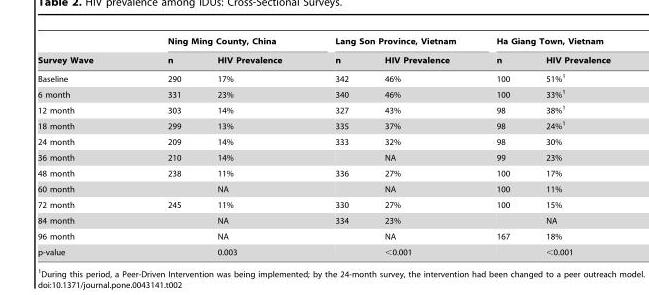table: (37, 36, 610, 256)
table column: (198, 36, 307, 256), (366, 36, 475, 256), (37, 36, 129, 256), (527, 36, 610, 256), (129, 36, 198, 256), (307, 36, 366, 256), (475, 36, 527, 256)
table column header: (37, 36, 610, 68)
table row: (37, 50, 610, 68), (37, 68, 610, 85), (37, 85, 610, 101), (37, 101, 610, 117), (37, 117, 610, 133), (37, 133, 610, 149), (37, 149, 610, 165), (37, 165, 610, 181), (37, 196, 610, 212), (37, 212, 610, 228), (37, 228, 610, 244), (37, 181, 610, 196), (37, 36, 610, 50), (37, 244, 610, 256)
table spanning cell: (37, 36, 129, 68), (129, 36, 307, 50), (307, 36, 475, 50), (475, 36, 610, 50)
